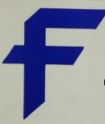Fisher: (1, 8, 104, 120)
